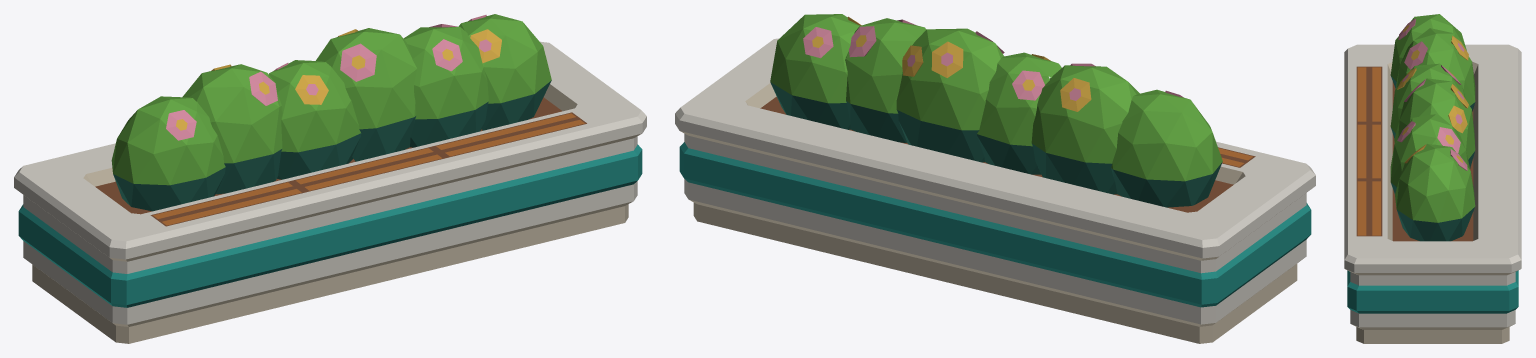
The model's file is oturak_saksi.glb.
The picture shows the model from 3 angles, left to right: view 1: azimuth 30°, elevation 25°; view 2: azimuth 150°, elevation 25°; view 3: azimuth 270°, elevation 25°; orthographic projection. The views are drawn at different scales.
Parts seen in each view (by area): view 1: oturak_saksi; view 2: oturak_saksi; view 3: oturak_saksi.
Boxes of the visible parts, x1,y1,x2,y2 form: oturak_saksi: (14,14,646,343); oturak_saksi: (675,14,1315,343); oturak_saksi: (1344,14,1521,343).
Bounding box in the file's own units: 2.6 × 0.96 × 0.9.
